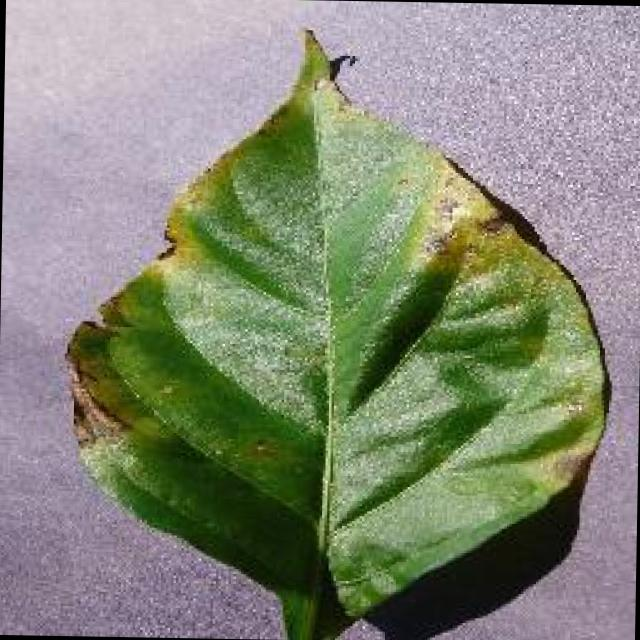Chilli_Bacterial_Spot: (54, 20, 620, 640), (64, 294, 135, 472), (526, 436, 600, 489), (237, 431, 283, 467), (322, 48, 359, 86), (472, 206, 509, 238)
